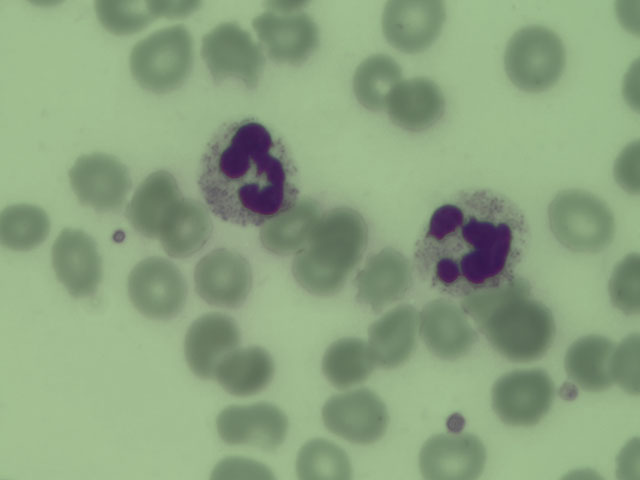Platelets: (105, 222, 132, 251), (443, 407, 467, 438), (557, 378, 581, 407)
RBC: (545, 191, 619, 255), (489, 302, 549, 357), (380, 1, 448, 49), (508, 29, 562, 87), (55, 226, 99, 294), (391, 80, 443, 129), (349, 57, 401, 106), (566, 337, 618, 386), (495, 371, 547, 420), (420, 307, 472, 356), (367, 310, 419, 359), (321, 334, 373, 383), (260, 10, 312, 59), (359, 252, 411, 301), (303, 224, 355, 273), (260, 201, 312, 250), (330, 392, 382, 441), (225, 400, 277, 449), (219, 344, 271, 393), (185, 319, 237, 368), (197, 251, 249, 300), (131, 261, 183, 310), (159, 201, 211, 250), (127, 177, 179, 226), (71, 153, 123, 202), (204, 29, 256, 78), (133, 33, 185, 82), (1, 200, 52, 249), (427, 431, 479, 479), (605, 251, 640, 321), (295, 437, 351, 480), (91, 1, 160, 34), (206, 452, 276, 480), (613, 331, 640, 401), (609, 138, 640, 197), (611, 431, 640, 480), (613, 1, 640, 42)
WBC: (411, 184, 530, 294), (198, 116, 299, 225)
